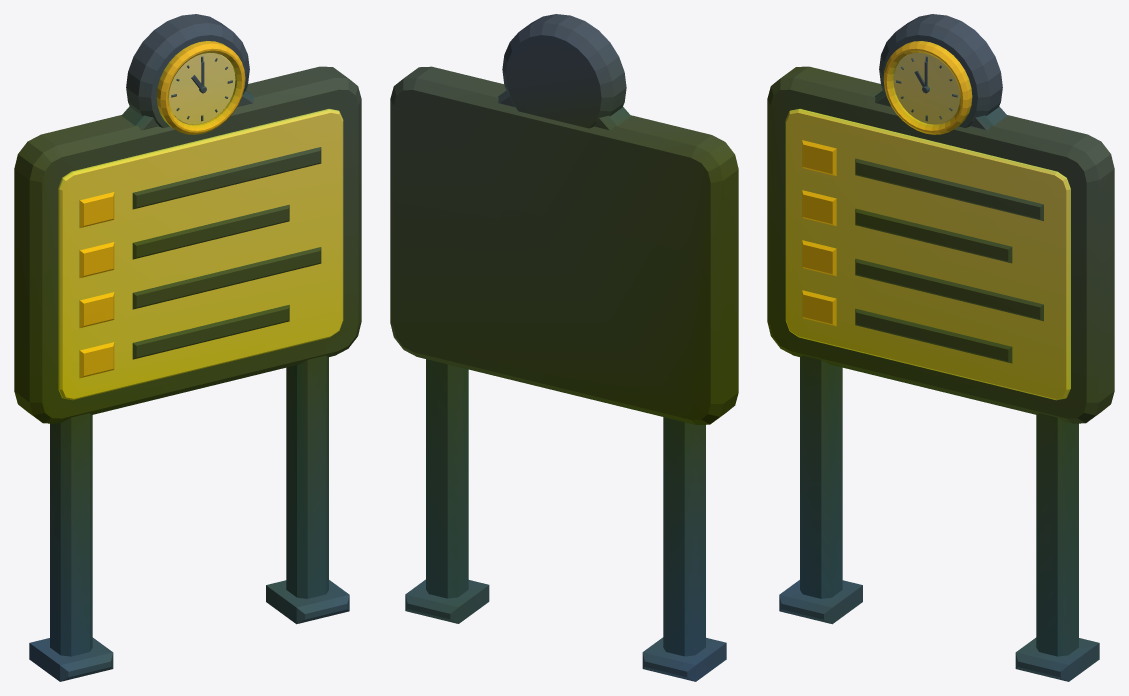
File: Prop_Timetable.fbx
The picture shows the model from 3 angles, left to right: view 1: azimuth 30°, elevation 25°; view 2: azimuth 150°, elevation 25°; view 3: azimuth 330°, elevation 25°; orthographic projection.
Visible parts, largest first — view 1: Prop_Timetable; view 2: Prop_Timetable; view 3: Prop_Timetable.
Part boxes in pixels (x1,y1,x2,y2): Prop_Timetable: (14,14,361,681); Prop_Timetable: (390,14,738,681); Prop_Timetable: (767,14,1114,681).
Bounding box in the file's own units: 1.25 × 2.21 × 0.24.
